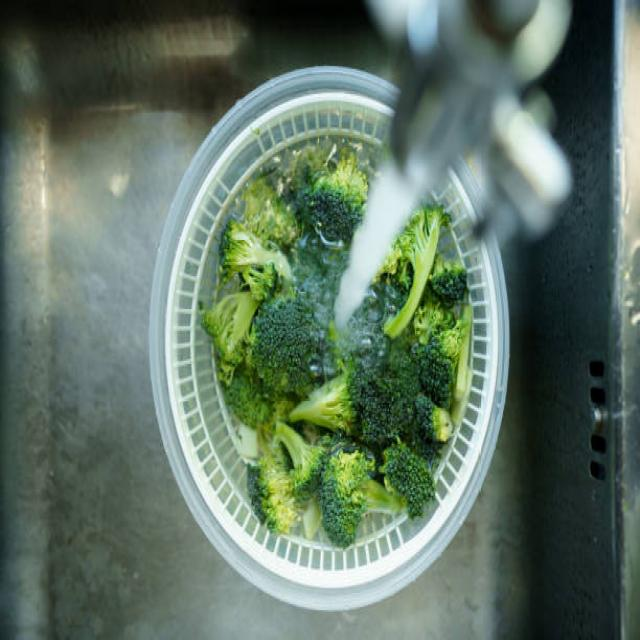broccoli: (322, 446, 409, 550), (248, 445, 317, 551), (251, 313, 321, 393), (417, 371, 462, 447)
